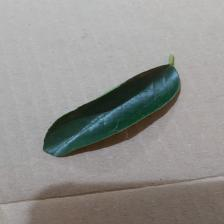healthy: (27, 54, 186, 160)
